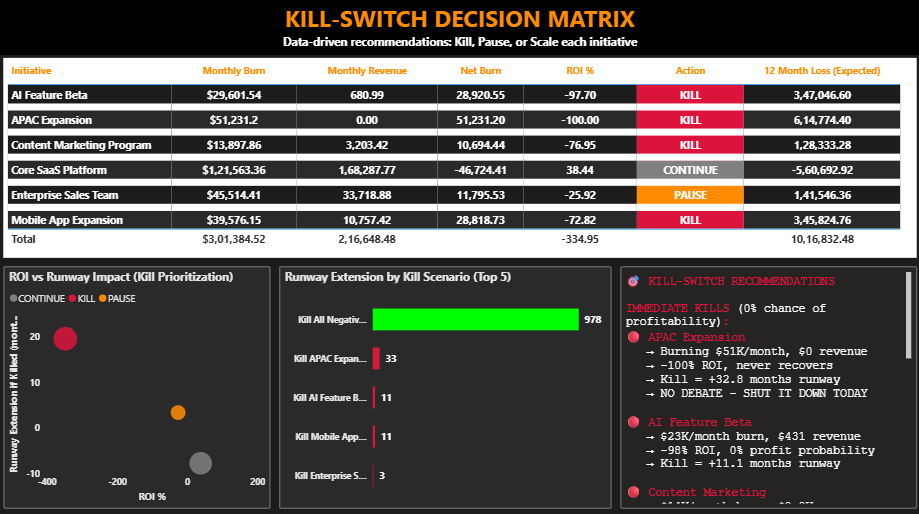

The page's visual inventory and layout, read from the dashboard file:
{"tool":"powerbi","page":{"name":"Kill-Switch Matrix","canvas":[1280,720],"ordinal":1},"visuals":[{"type":"textbox","box":[0,0,1278.6,77.6],"z":0},{"type":"textbox","box":[862,372,412.4,338],"z":1000},{"type":"tableEx","fields":{"Values":["powerbi_initiative_scorecard.initiative_name","Sum(powerbi_initiative_scorecard.monthly_burn)","Sum(powerbi_initiative_scorecard.monthly_revenue)","powerbi_initiative_scorecard.net_burn","Sum(powerbi_initiative_scorecard.roi_percent)","powerbi_initiative_scorecard.recommendation","Sum(powerbi_initiative_scorecard.expected_12mo_loss)"]},"box":[4.9,82.5,1269.5,278.2],"z":2000},{"type":"scatterChart","title":"ROI vs Runway Impact (Kill Prioritization)","fields":{"X":["Sum(powerbi_initiative_scorecard.roi_percent)"],"Y":["_Measures.Runway Impact"],"Size":["Sum(powerbi_initiative_scorecard.monthly_burn)"],"Series":["powerbi_initiative_scorecard.recommendation"]},"box":[4.9,372,372,338],"z":3000},{"type":"clusteredBarChart","title":"Runway Extension by Kill Scenario (Top 5)","fields":{"Category":["powerbi_kill_scenarios.scenario"],"Y":["Sum(powerbi_kill_scenarios.runway_extension)"]},"box":[388.1,372,462.5,338],"z":4000}]}

Visuals, with their boxes in screenshot pixels (x1, y1, x2, y2), scaled from the page's 1280x720 canvas onto the 919x514 screenshot:
textbox: [left=0, top=0, right=918, bottom=55]
textbox: [left=619, top=266, right=915, bottom=507]
tableEx - powerbi_initiative_scorecard.initiative_name x Sum(powerbi_initiative_scorecard.monthly_burn): [left=4, top=59, right=915, bottom=257]
"ROI vs Runway Impact (Kill Prioritization)" scatterChart: [left=4, top=266, right=271, bottom=507]
"Runway Extension by Kill Scenario (Top 5)" clusteredBarChart: [left=279, top=266, right=611, bottom=507]
